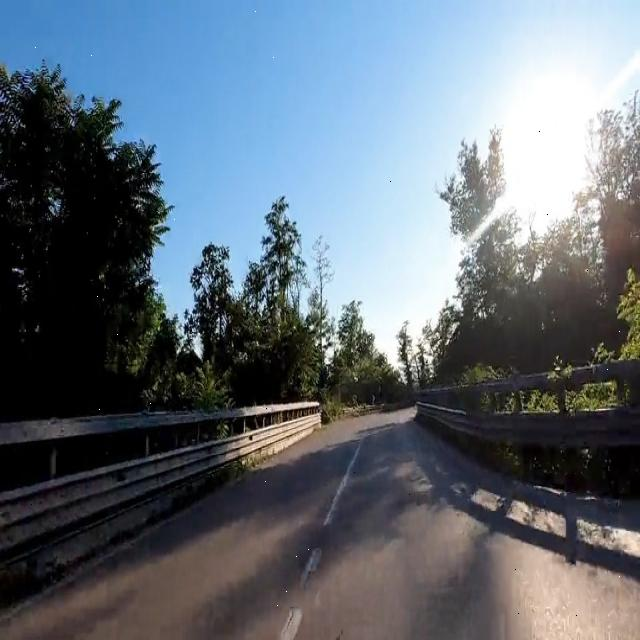lane: (324, 442, 361, 526), (300, 549, 321, 588), (280, 607, 302, 640)
road: (0, 410, 639, 638)
